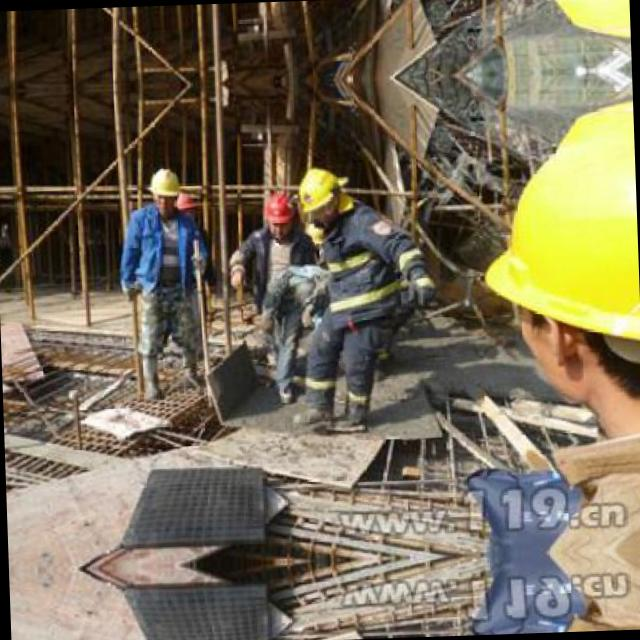helmet: (473, 104, 639, 457), (288, 164, 346, 227), (146, 165, 183, 215), (264, 186, 298, 236)
